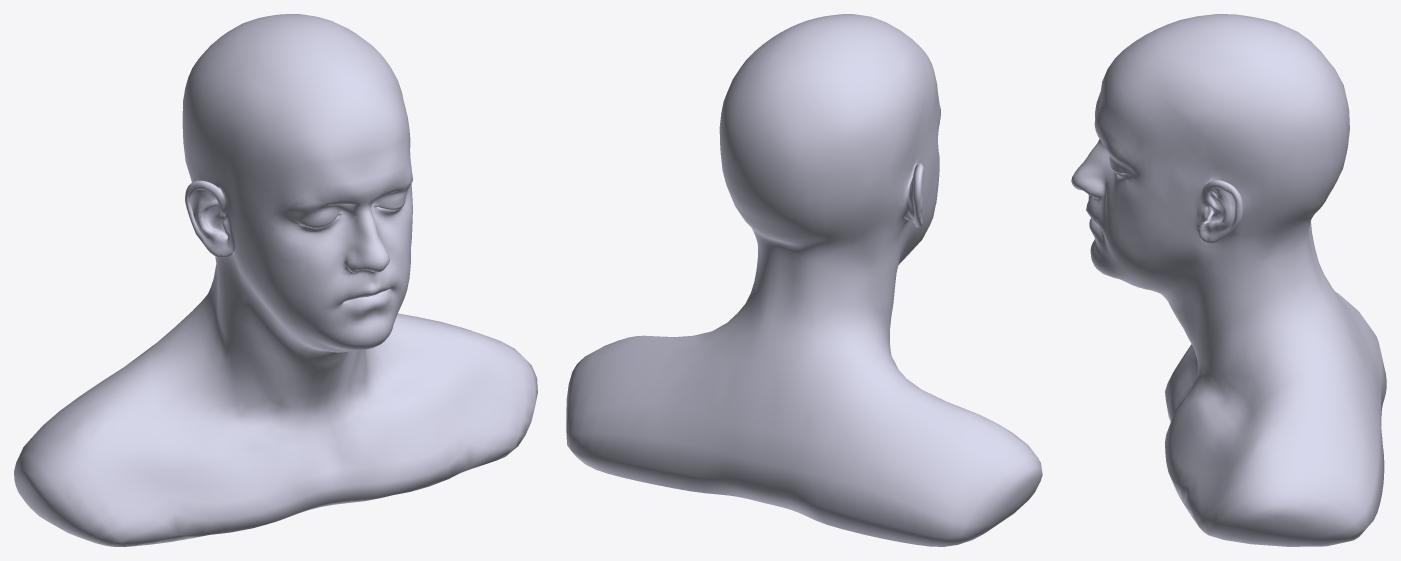
File: LeePerrySmith.gltf
3 renders of one model, left to right at view 1: azimuth 30°, elevation 25°; view 2: azimuth 150°, elevation 25°; view 3: azimuth 270°, elevation 25°, orthographic. The views are drawn at different scales.
Parts seen in each view (by area): view 1: LeePerrySmith; view 2: LeePerrySmith; view 3: LeePerrySmith.
Boxes of the visible parts, box(x1,y1,x2,y2) form: LeePerrySmith: box(14, 14, 537, 546); LeePerrySmith: box(566, 14, 1042, 546); LeePerrySmith: box(1071, 14, 1386, 546).
Size of the model in its own units: 8.55 by 7.95 by 5.18.
